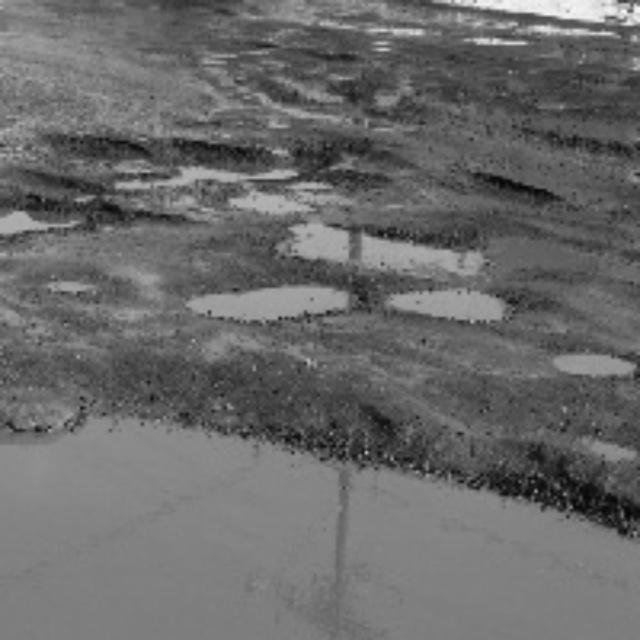Pothole: (25, 343, 640, 640), (317, 207, 446, 266), (0, 172, 107, 243), (461, 154, 563, 218), (161, 134, 284, 187), (222, 258, 319, 320), (409, 270, 517, 313), (532, 334, 622, 383), (324, 148, 382, 204), (59, 127, 129, 167), (461, 21, 526, 51)
Surface Erosion: (234, 0, 616, 166)
